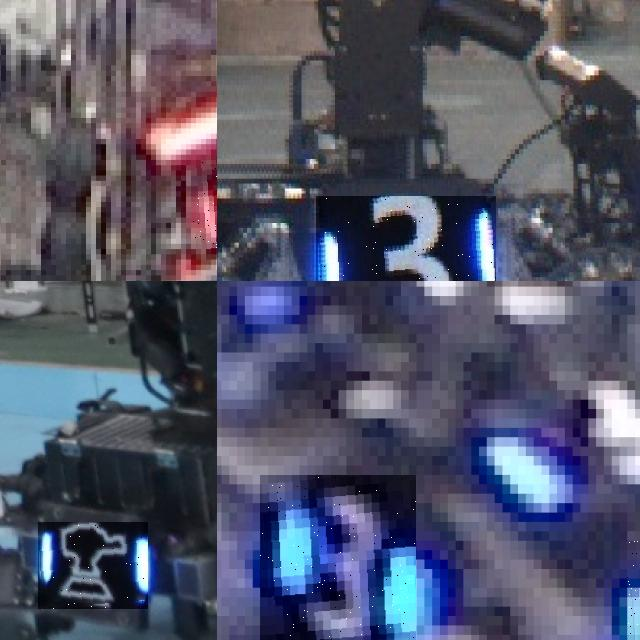B3: (260, 475, 416, 640), (479, 352, 640, 493), (316, 196, 496, 281)
Bs: (38, 522, 148, 609)
R2: (191, 160, 217, 249)
